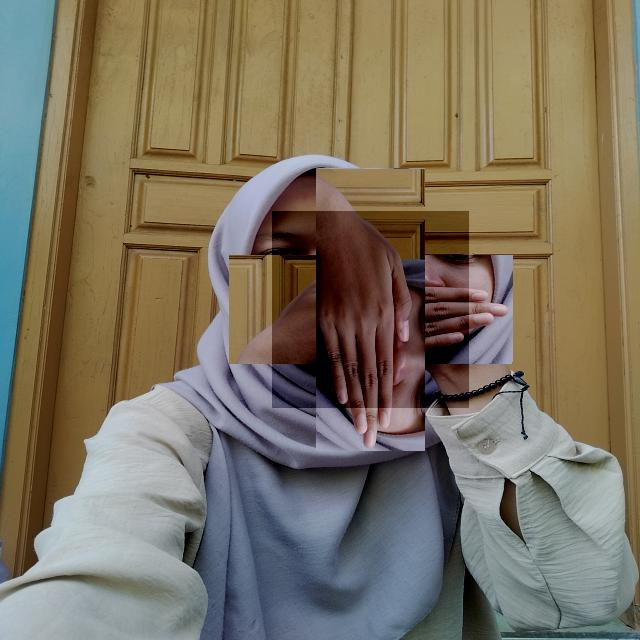buruk: (272, 211, 469, 408)
